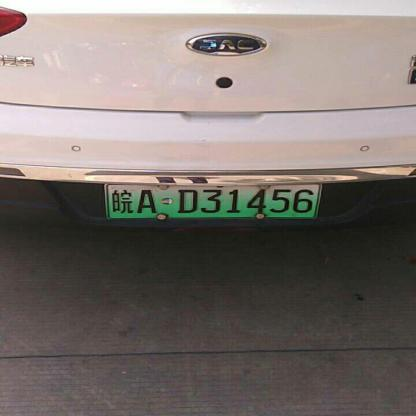lp: (106, 183, 320, 218)
